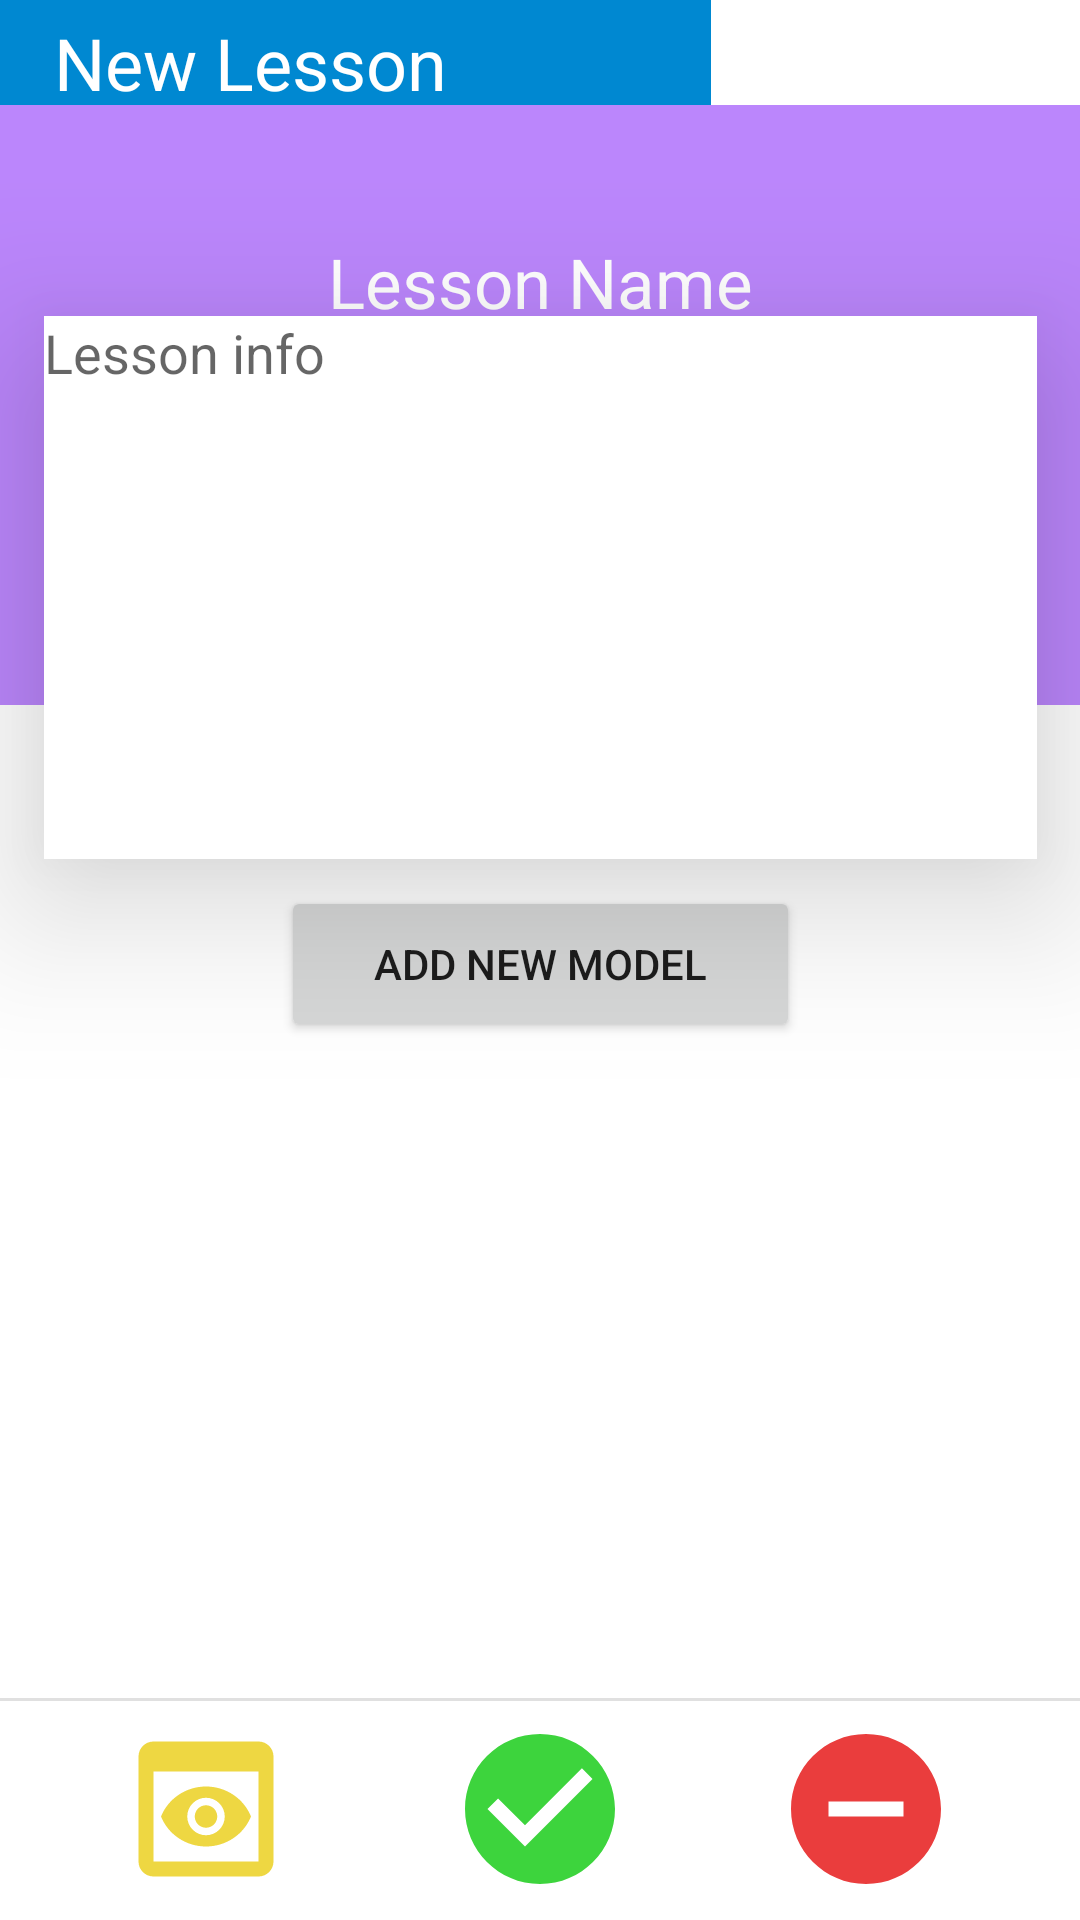

Named icons in this screenshot (1080px x 1920px) and their centers, point (x, y):
check circle: point (540, 1809)
remove circle: point (866, 1809)
